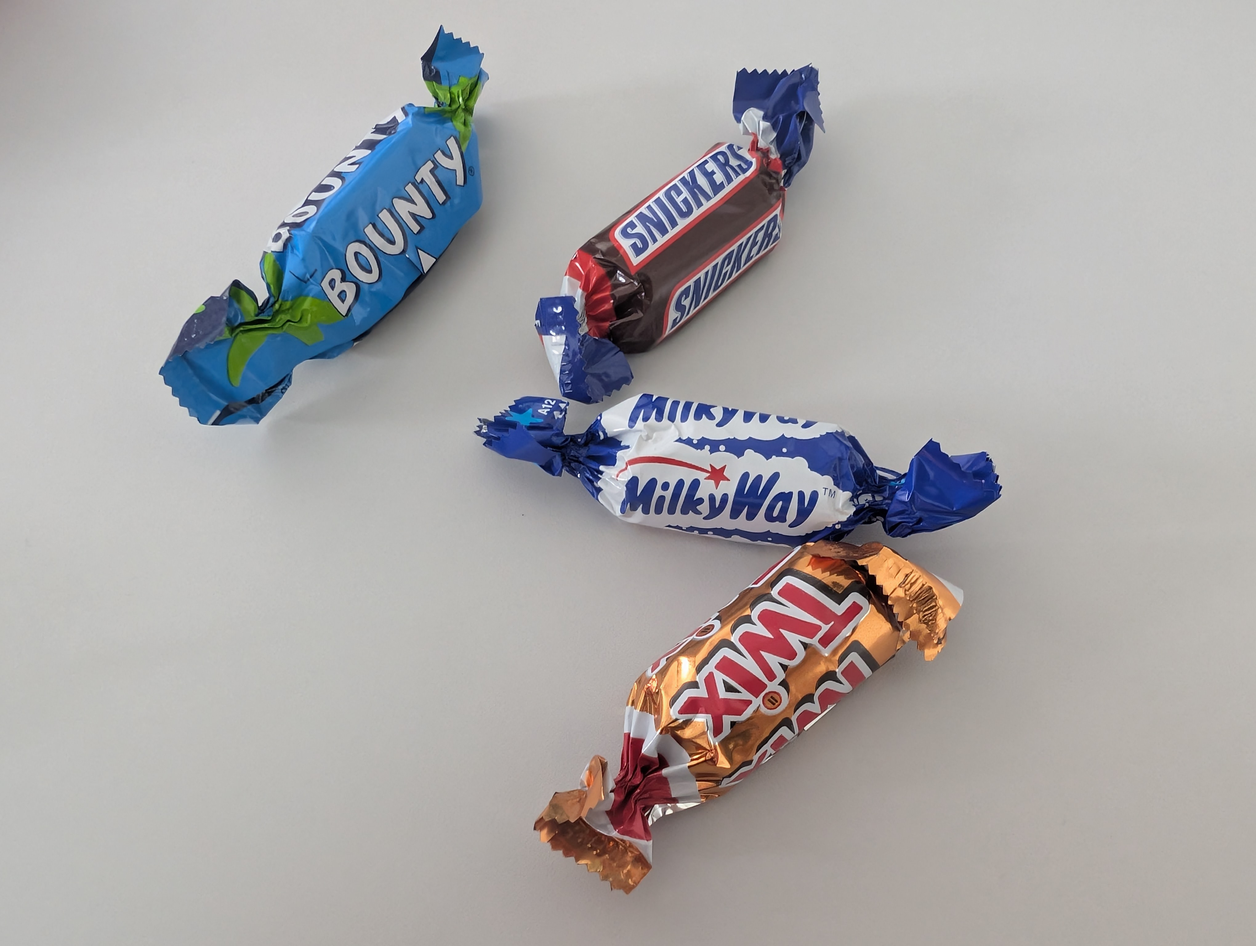Bounty: (160, 27, 493, 428)
Milkyway: (479, 397, 999, 549)
Snickers: (535, 63, 825, 402)
Twix: (537, 547, 968, 890)
